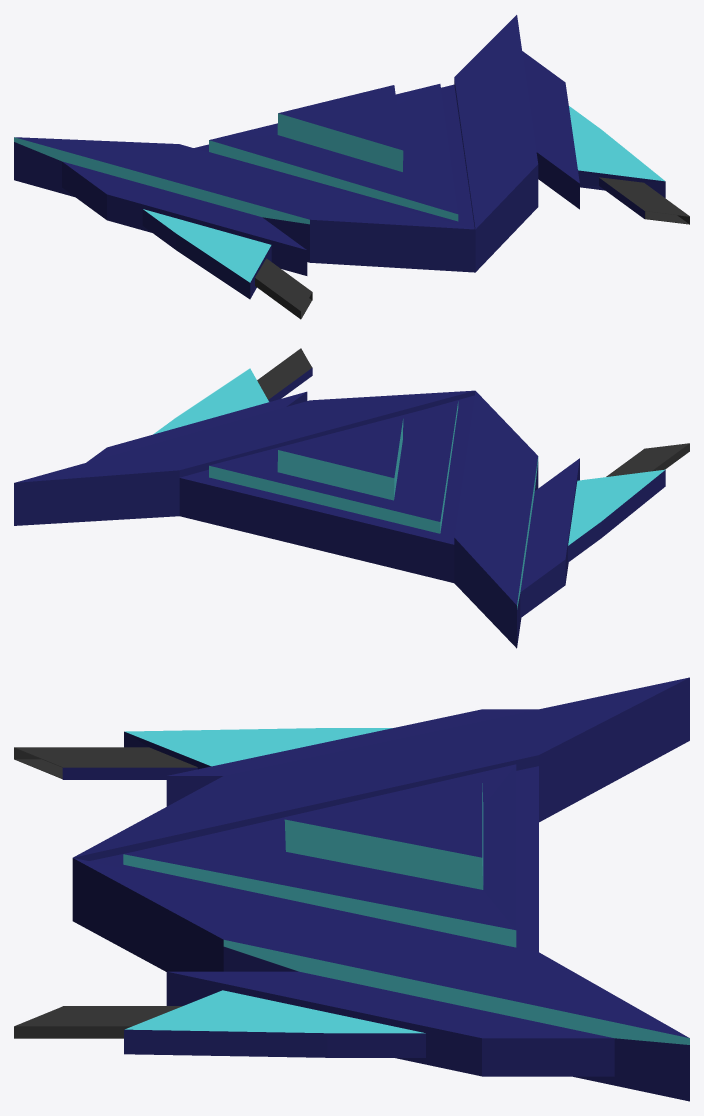
Rendered from enemy.fbx.
3 views of the same model, one above another, from view 1: azimuth 30°, elevation 25°; view 2: azimuth 150°, elevation 25°; view 3: azimuth 270°, elevation 25° (orthographic). The views are drawn at different scales.
Visible parts, largest first — view 1: Plane; view 2: Plane; view 3: Plane.
Part boxes in pixels (x1,y1,x2,y2): Plane: (14, 15, 689, 319); Plane: (14, 348, 689, 648); Plane: (14, 677, 689, 1101).
Size of the model in its own units: 366 by 49.76 by 290.
